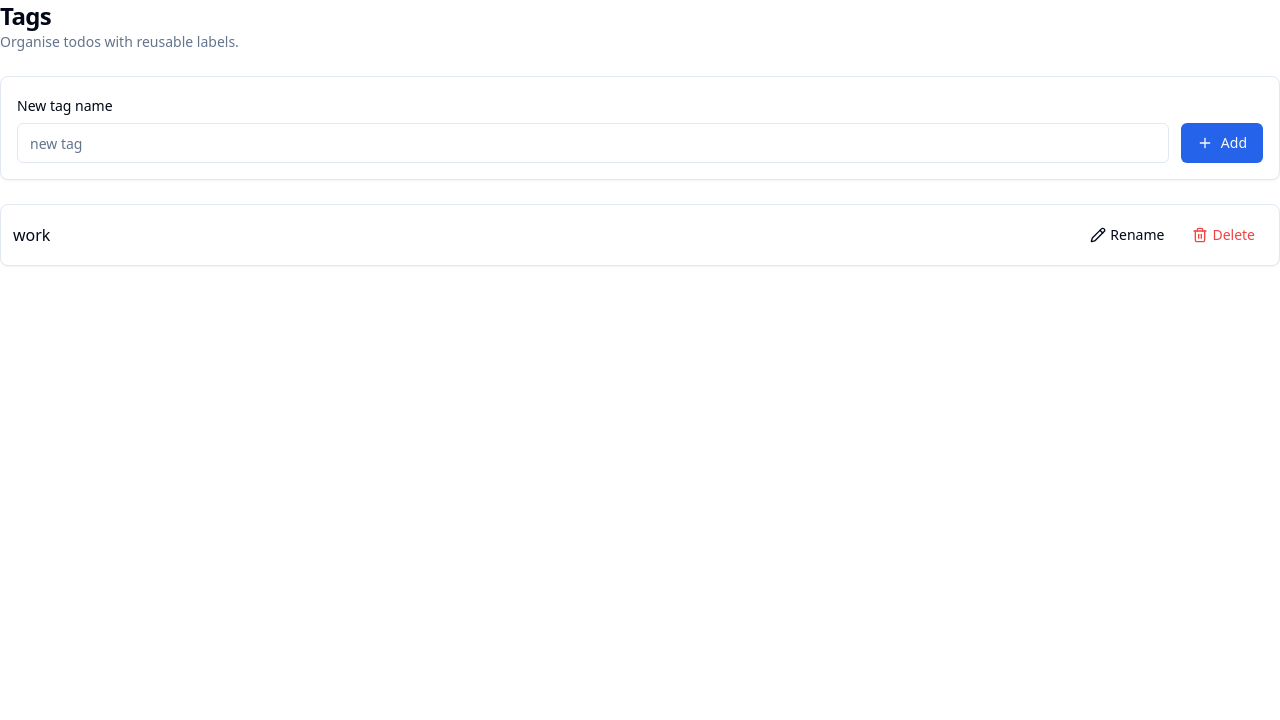
Test: TagsPage › surfaces 409 on rename as an inline error
expect the text "work" is shown: met, box [13,223,50,247]
Click the button "Rename" at (1127, 235), box [1078,217,1176,253]
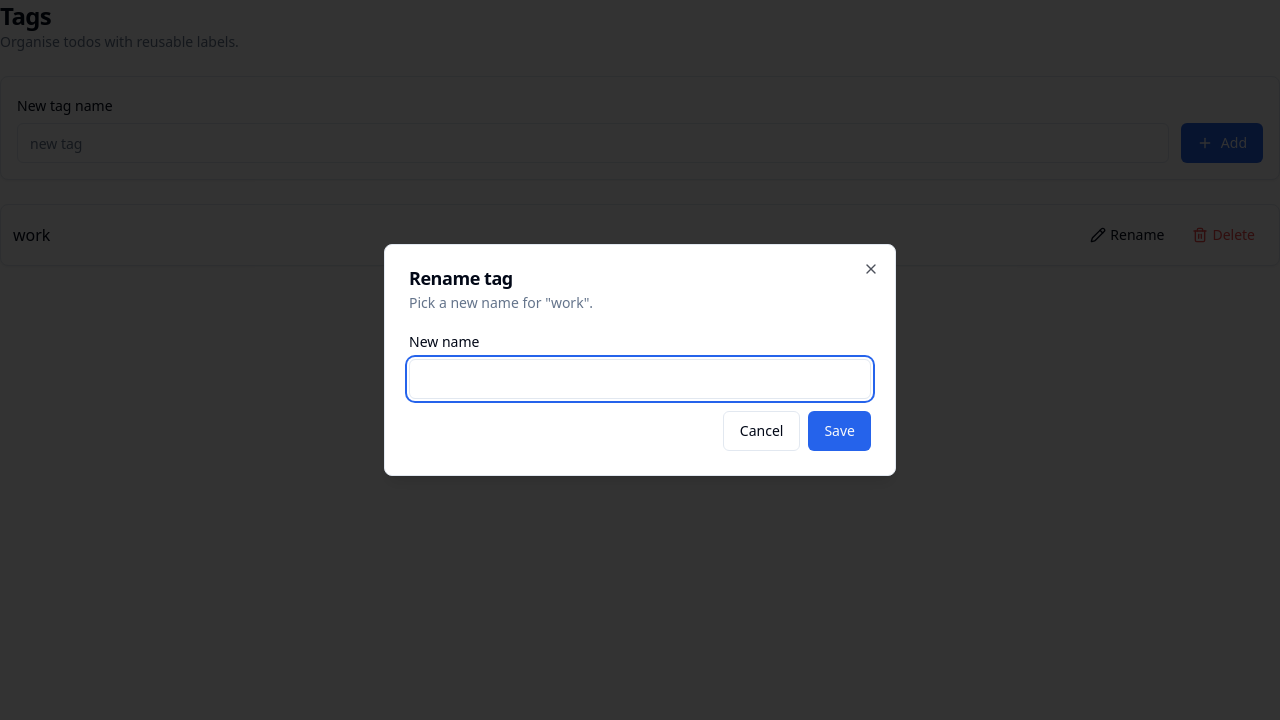
Type "career" into the field labelled "New name" at (640, 379), box [409,359,871,399]
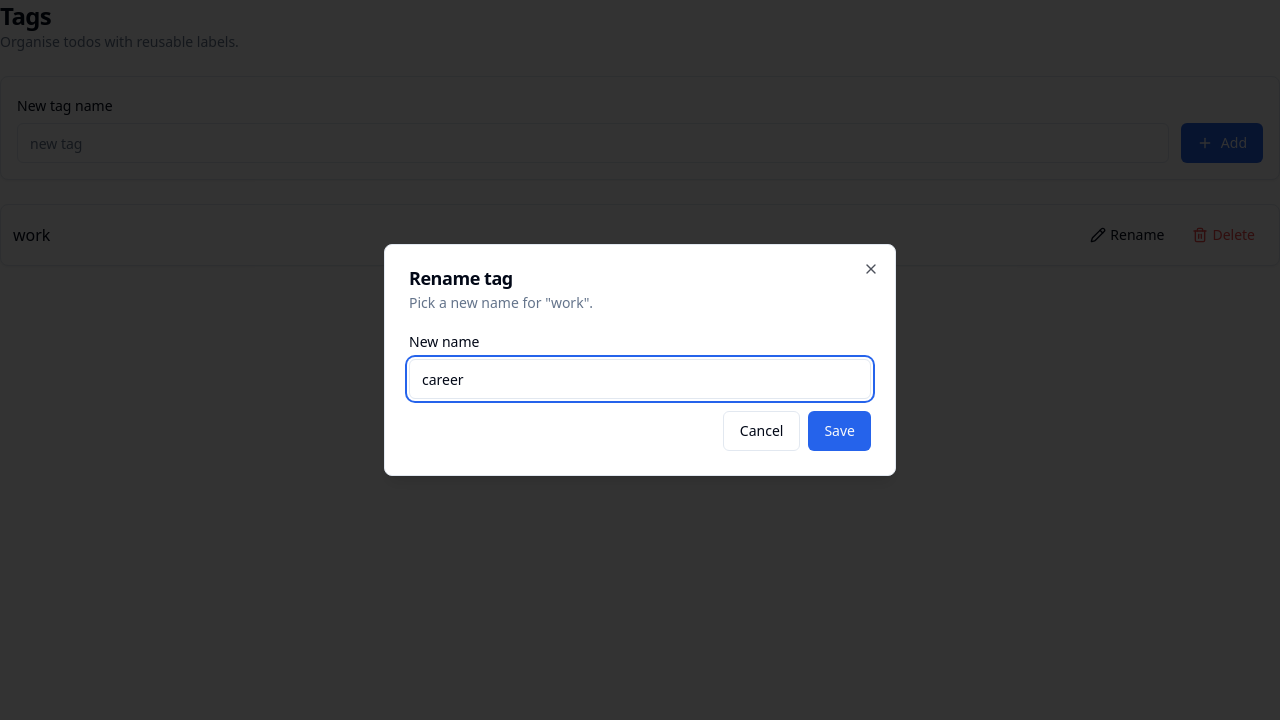
Click the button "Save" at (840, 431), box [808,411,871,451]
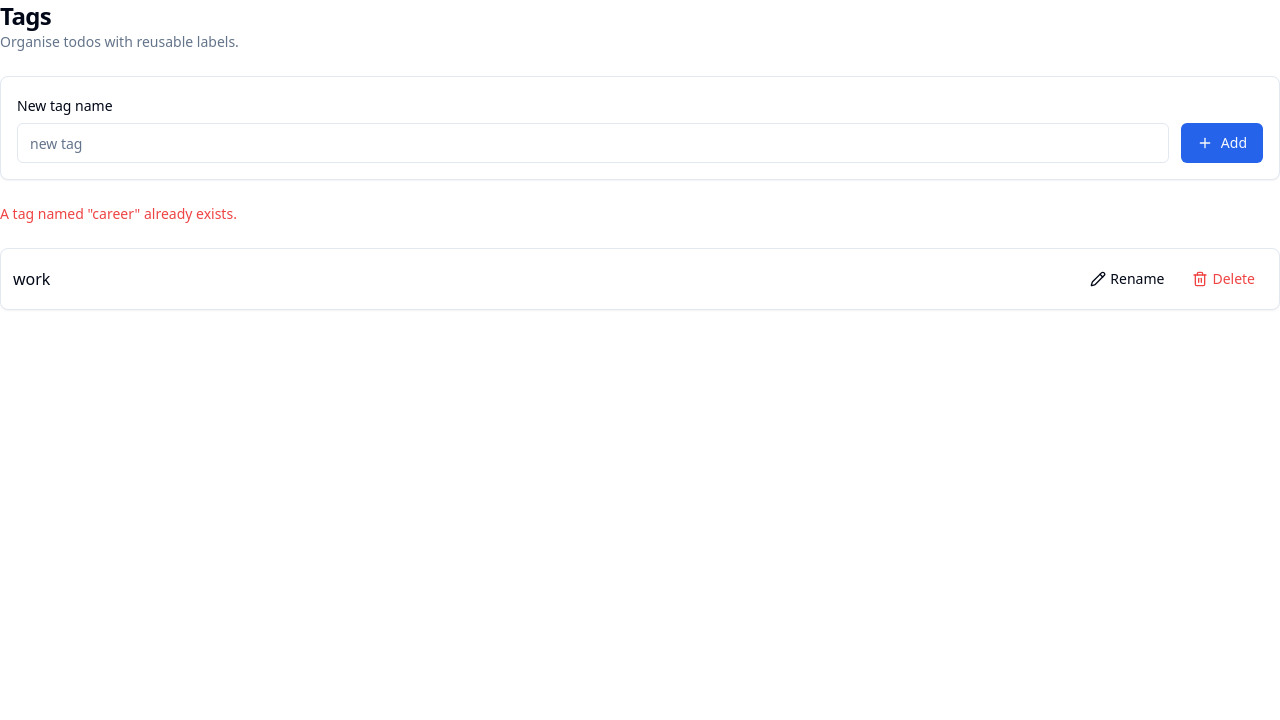
expect the message shows "already exists": met, box [0,204,237,223]
